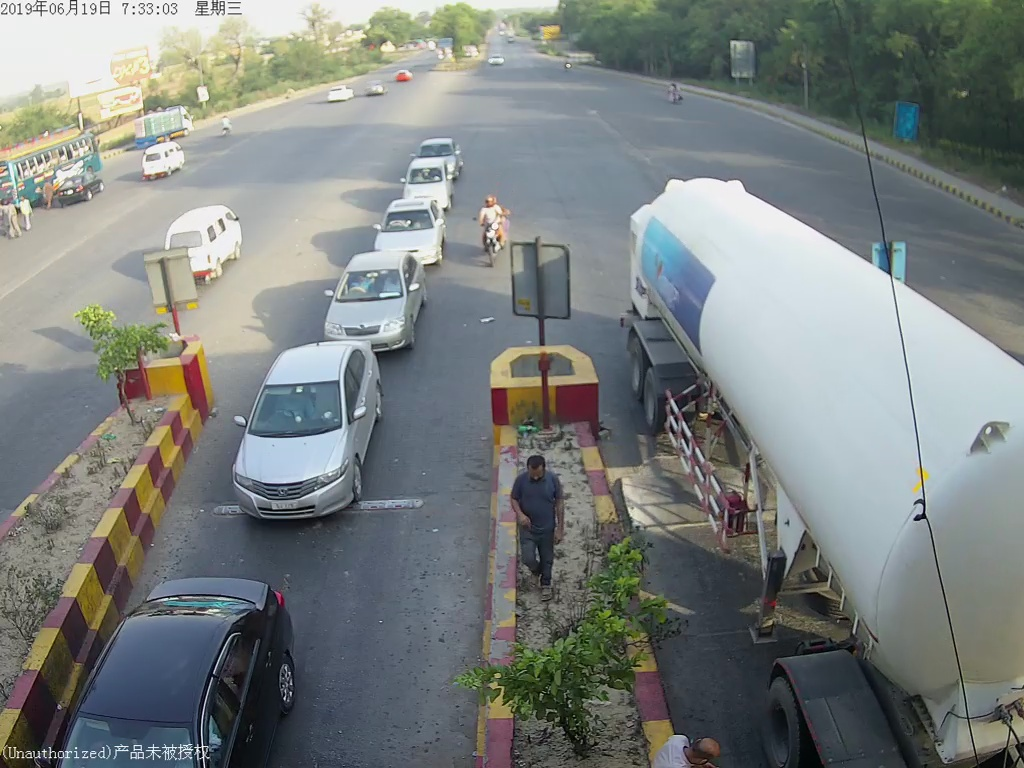Cat-1: (217, 342, 405, 541), (319, 256, 432, 341), (371, 202, 449, 256), (395, 164, 456, 202)
